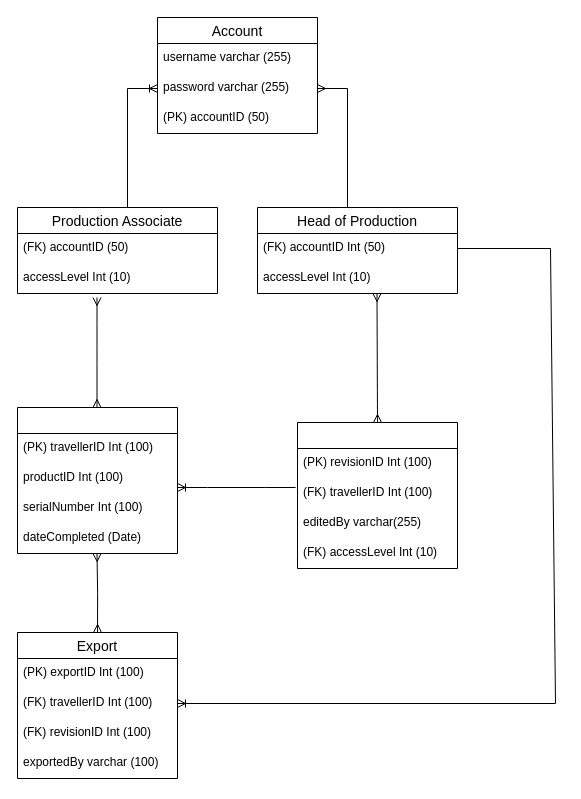
Some shapes in this 581 by 799 pixel diagram are drawn without their labels. The shapes that lost their labels are listed below. From the top down, each one's box as (x1, y1, x2, y2) in pixels, then its label:
(16, 406, 178, 554): Traveller Sheet
(296, 422, 458, 568): Traveller Revision
